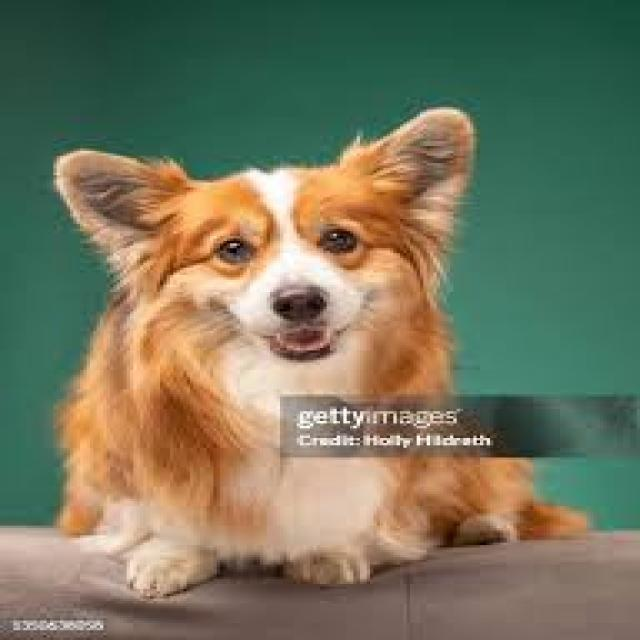CORGI: (2, 109, 622, 614)
